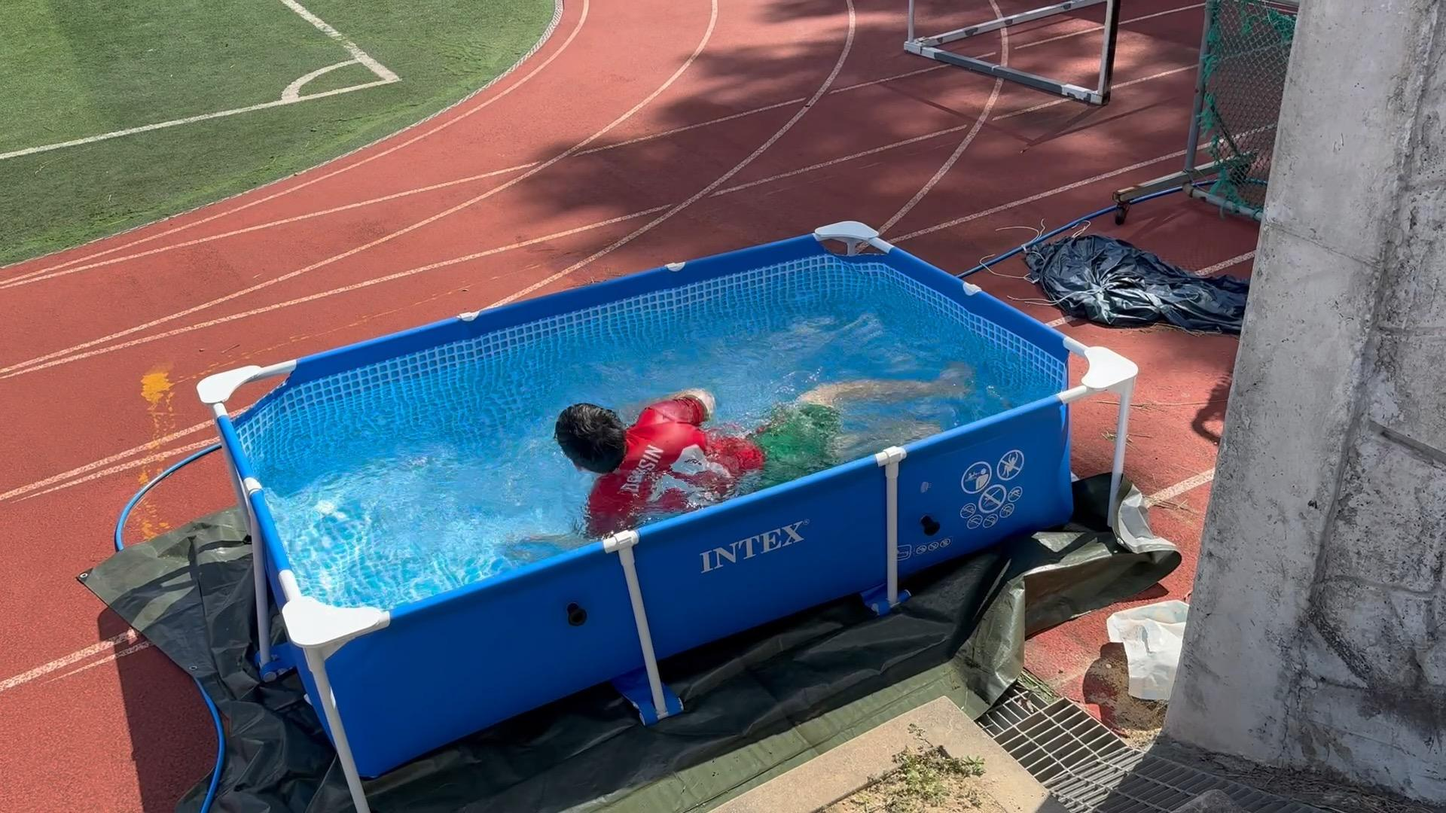Drowning: (482, 327, 975, 576)
